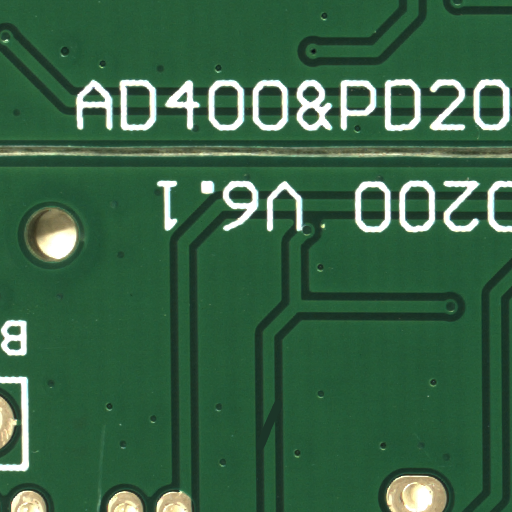Open_circuit: (269, 424, 289, 474)
